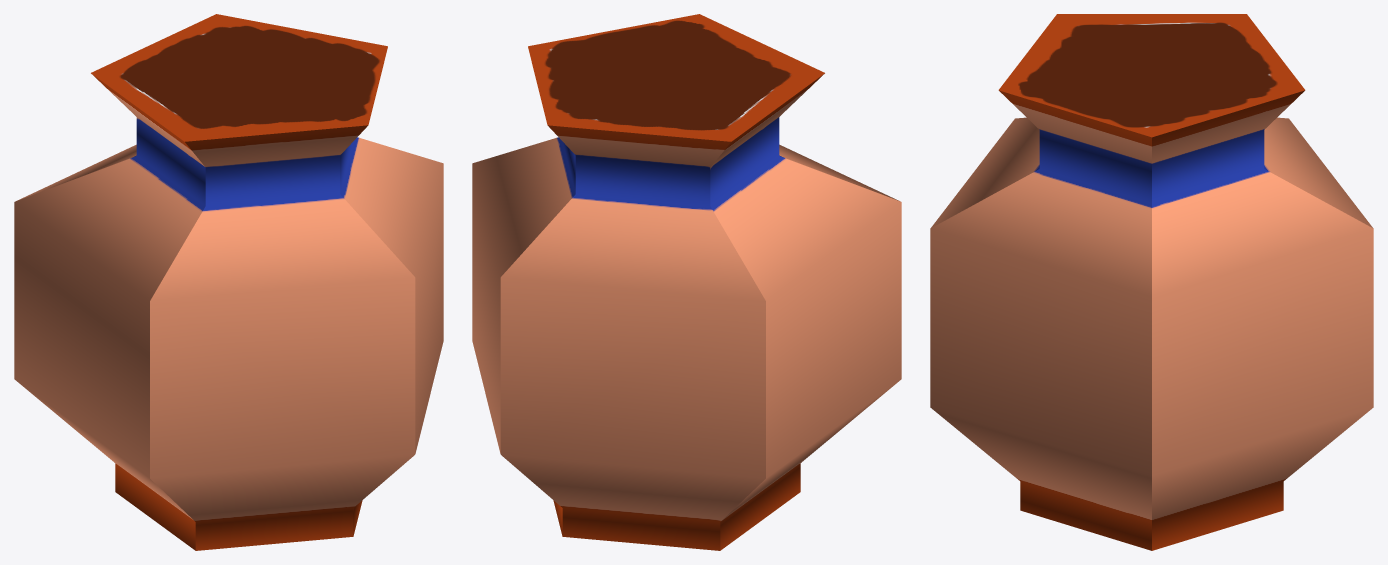
The model's file is pot.fbx.
3 views of the same model, side by side, from view 1: azimuth 30°, elevation 25°; view 2: azimuth 150°, elevation 25°; view 3: azimuth 270°, elevation 25° (orthographic).
Visible parts, largest first — view 1: pCylinder1; view 2: pCylinder1; view 3: pCylinder1.
Boxes of the visible parts, x1,y1,x2,y2 form: pCylinder1: (14, 14, 443, 550); pCylinder1: (472, 14, 901, 550); pCylinder1: (930, 14, 1373, 550).
Bounding box in the file's own units: 292 × 323 × 307.
Materials: 1 (1 with a texture image).
